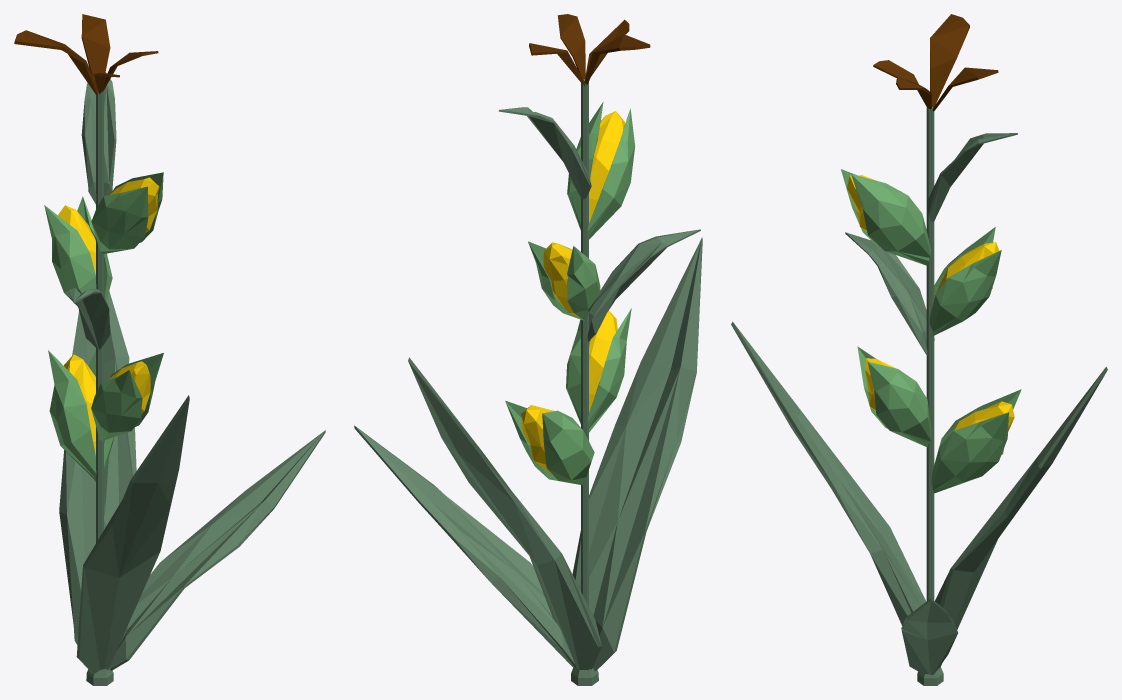
File: corn.fbx
3 renders of one model, left to right at view 1: azimuth 30°, elevation 25°; view 2: azimuth 150°, elevation 25°; view 3: azimuth 270°, elevation 25°, orthographic. The views are drawn at different scales.
Parts seen in each view (by area): view 1: corn; view 2: corn; view 3: corn.
Boxes of the visible parts, x1,y1,x2,y2 form: corn: (14,14,325,685); corn: (354,14,702,685); corn: (731,14,1107,685).
Size of the model in its own units: 75.29 by 156 by 84.02.
